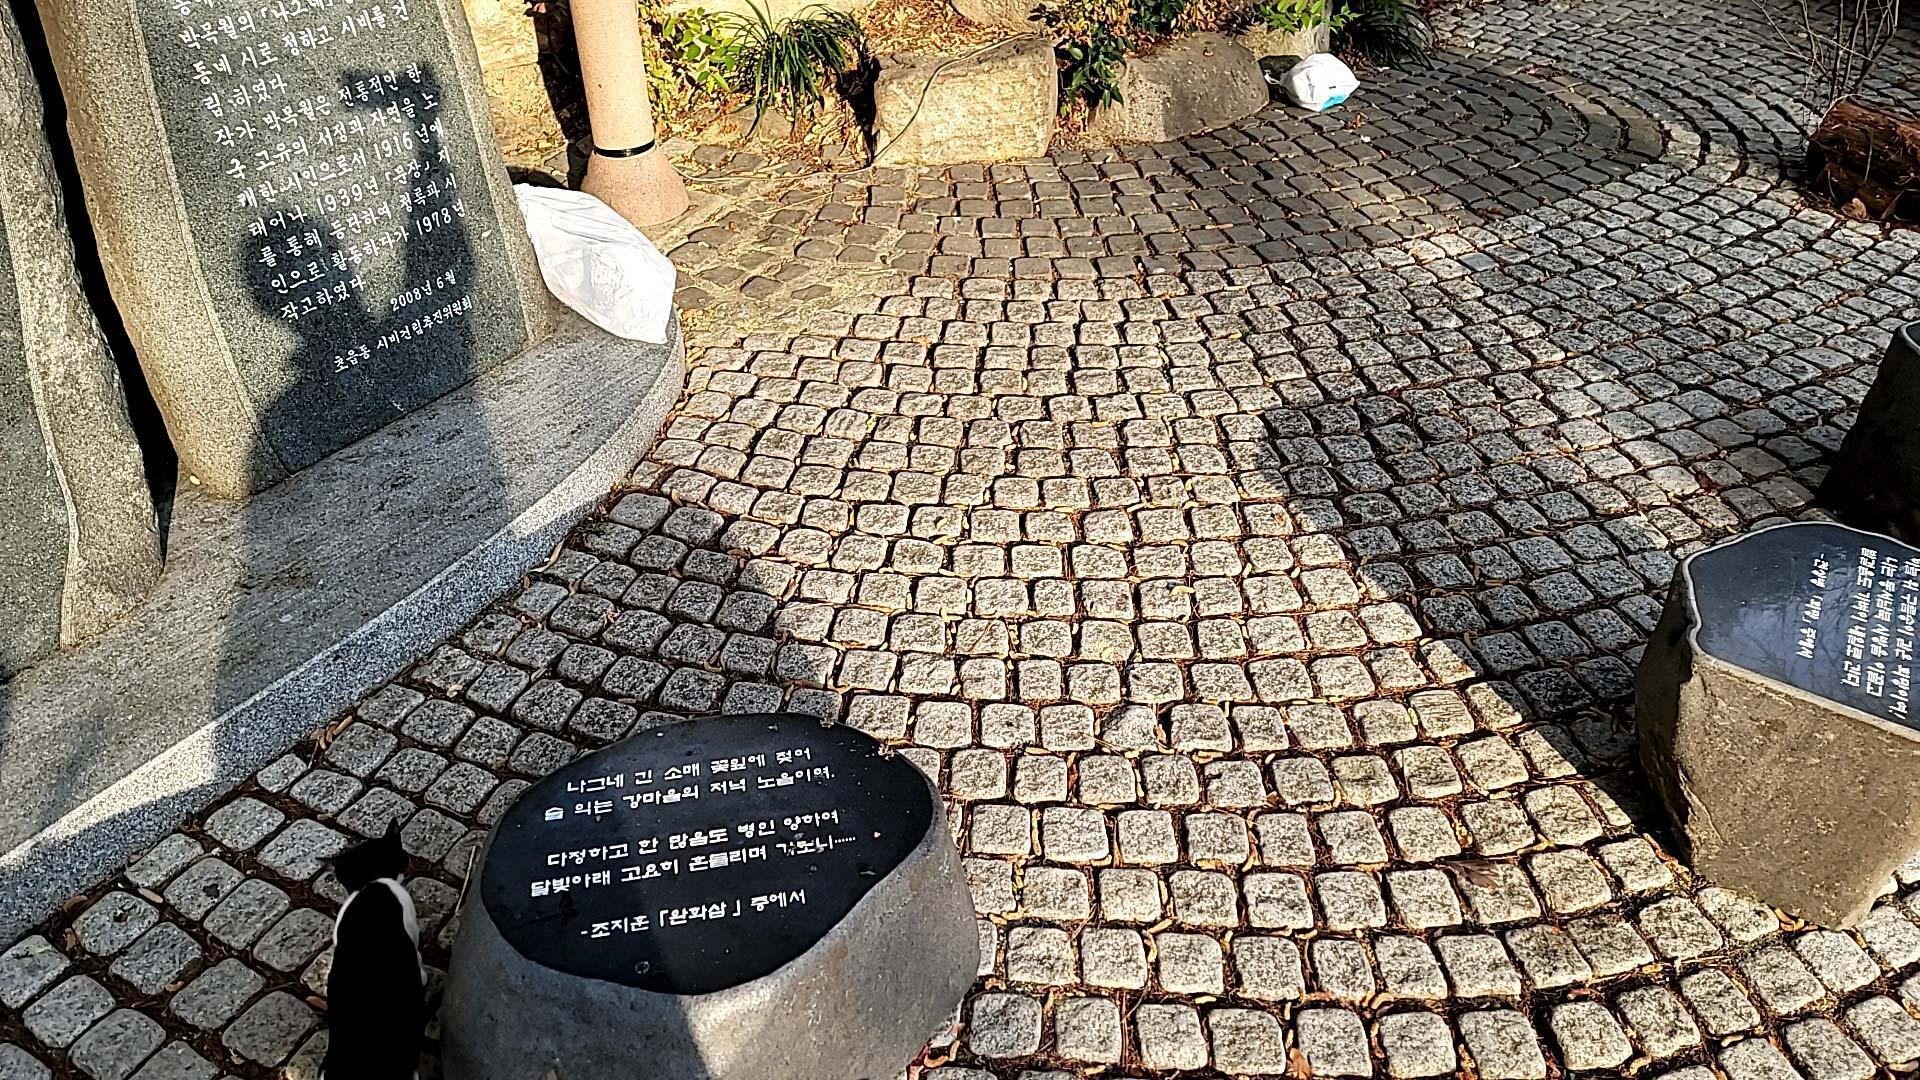white_bag: (495, 167, 695, 359), (1261, 53, 1364, 115)
